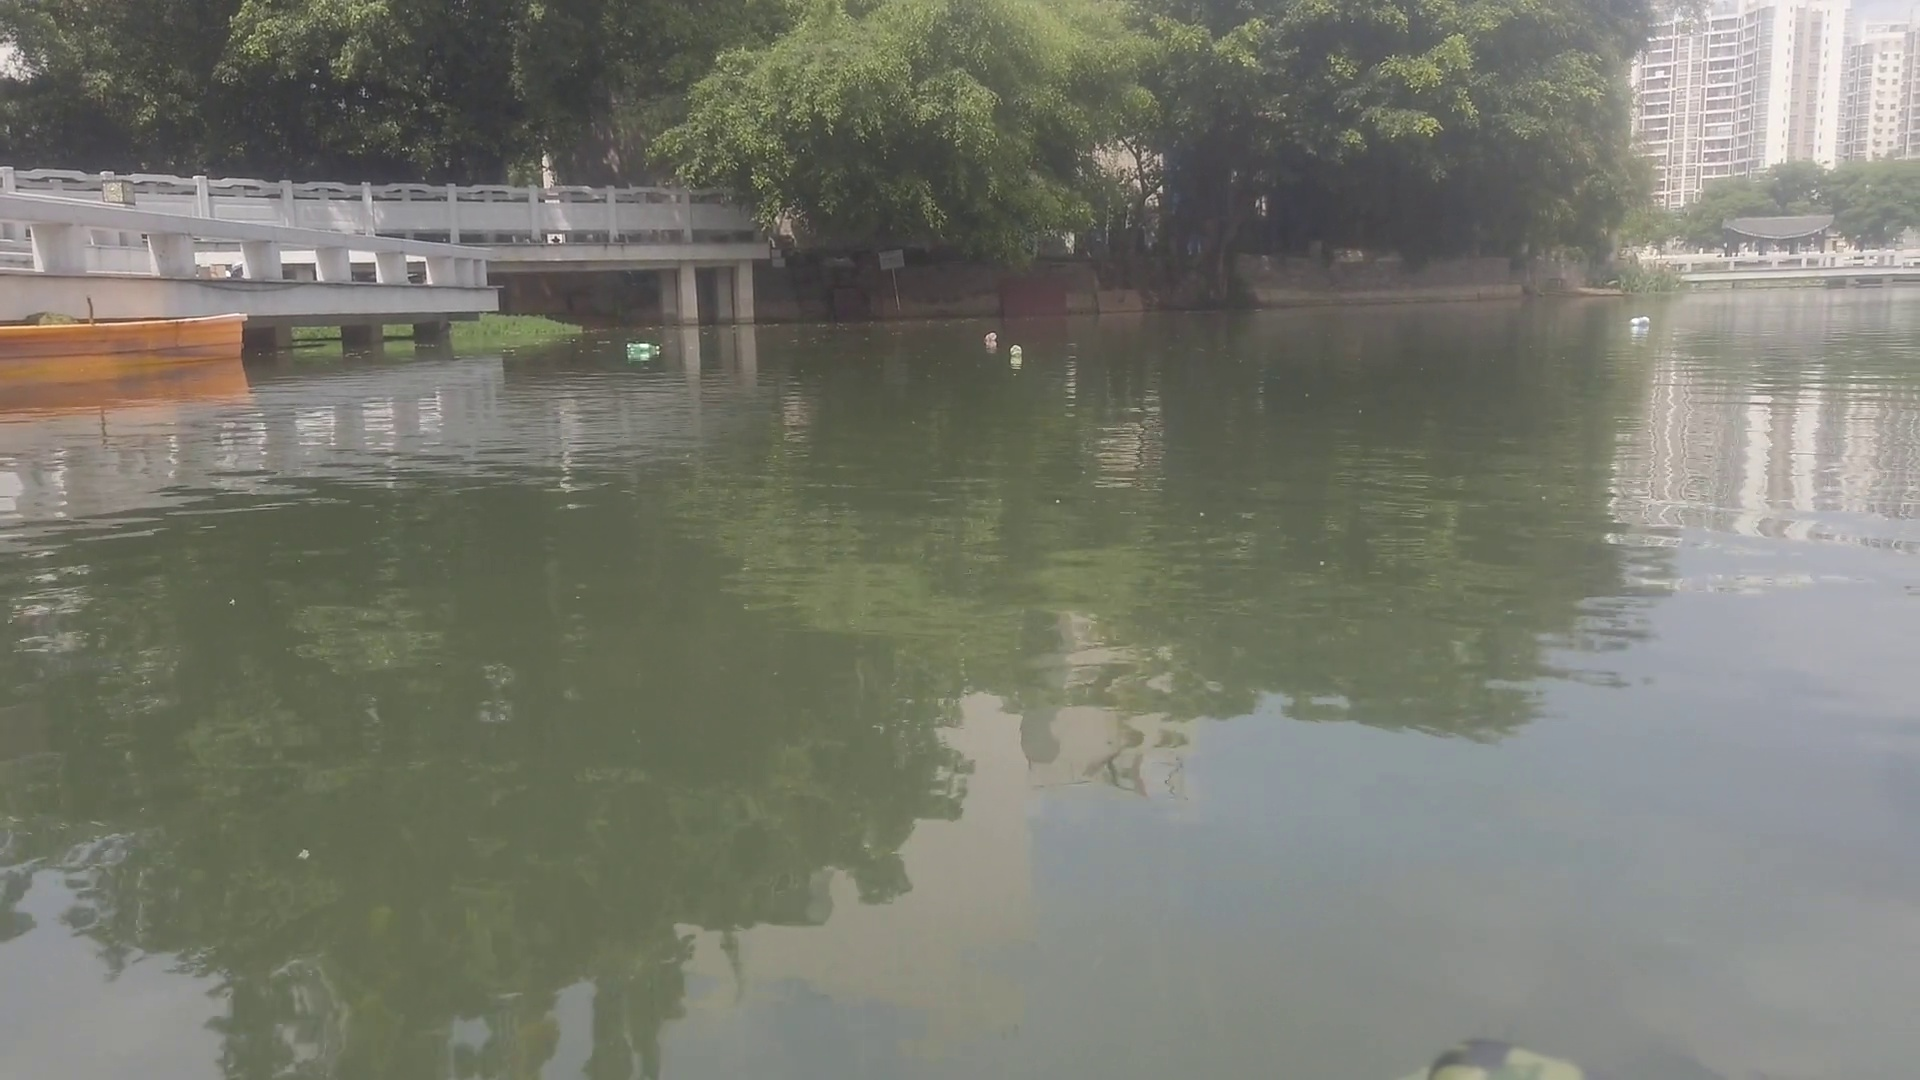bottle: (624, 339, 674, 353), (1625, 310, 1654, 328), (1006, 342, 1026, 360), (978, 328, 1000, 342)
